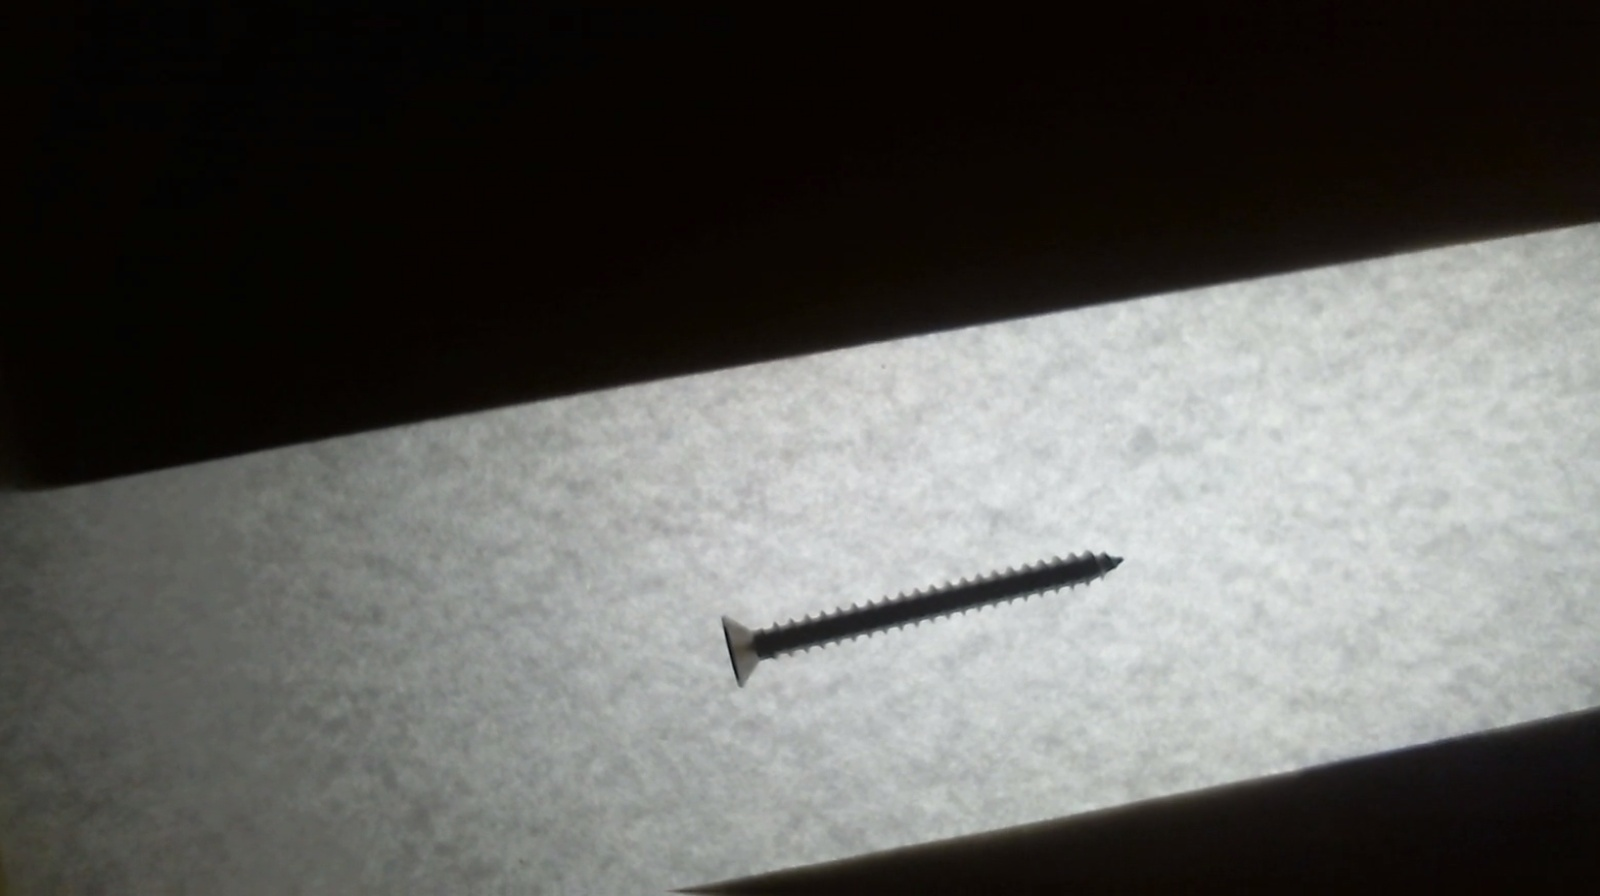S002: (701, 530, 1154, 701)
